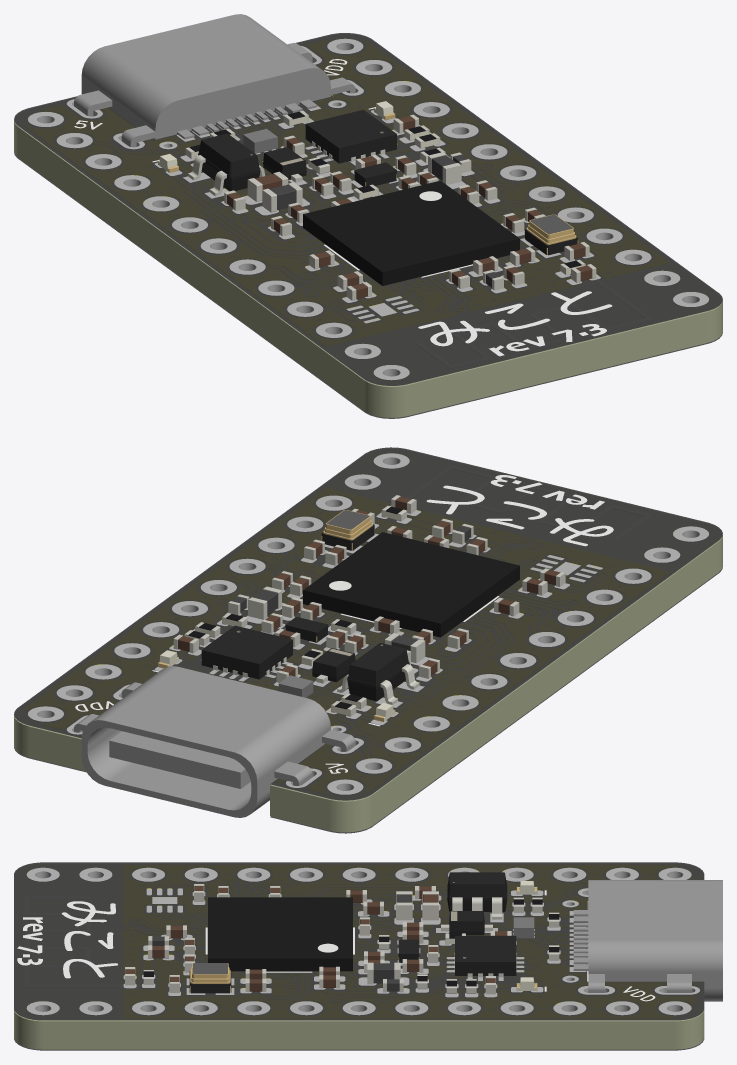
The model's file is board.glb.
3 renders of one model, top to bottom at view 1: azimuth 30°, elevation 25°; view 2: azimuth 150°, elevation 25°; view 3: azimuth 270°, elevation 25°, orthographic. The views are drawn at different scales.
Parts seen in each view (by area): view 1: board_soldermask (×2), board_PCB, USB C v1, board_pad, aQFN73 v2, WQFN_16_1EP_3x3mm_P05mm_EP16x16mm, SOT-23-5, board_silkscreen, L_0603_1608Metric (×2), Crystal_SMD_2016-4Pin_2.0x1.6mm, D_SOD_323F, MicroCrystal_CM9V_T1A (+2 smaller); view 2: board_soldermask (×2), USB C v1, board_PCB, board_pad, aQFN73 v2, WQFN_16_1EP_3x3mm_P05mm_EP16x16mm, SOT-23-5, board_silkscreen, L_0603_1608Metric (×2), Crystal_SMD_2016-4Pin_2.0x1.6mm, D_SOD_323F, MicroCrystal_CM9V_T1A; view 3: board_soldermask (×2), board_PCB, USB C v1, board_pad, aQFN73 v2, WQFN_16_1EP_3x3mm_P05mm_EP16x16mm, SOT-23-5, board_silkscreen, L_0603_1608Metric (×2), D_SOD_323F, Crystal_SMD_2016-4Pin_2.0x1.6mm, C_0603_1608Metric (+3 smaller).
Boxes of the visible parts, x1,y1,x2,y2 form: board_soldermask (×2): (14, 33, 722, 418); board_PCB: (14, 38, 722, 417); USB C v1: (74, 14, 355, 147); board_pad: (28, 39, 708, 380); aQFN73 v2: (303, 180, 519, 285); WQFN_16_1EP_3x3mm_P05mm_EP16x16mm: (305, 109, 396, 163); SOT-23-5: (188, 133, 265, 196); board_silkscreen: (74, 59, 612, 356); L_0603_1608Metric (×2): (262, 152, 461, 212); Crystal_SMD_2016-4Pin_2.0x1.6mm: (524, 214, 578, 254); D_SOD_323F: (263, 147, 306, 182); MicroCrystal_CM9V_T1A: (354, 162, 396, 186); board_soldermask (×2): (14, 447, 722, 833); USB C v1: (74, 666, 355, 817); board_PCB: (14, 453, 722, 832); board_pad: (28, 453, 708, 794); aQFN73 v2: (303, 532, 519, 637); WQFN_16_1EP_3x3mm_P05mm_EP16x16mm: (201, 625, 292, 679); SOT-23-5: (337, 643, 419, 704); board_silkscreen: (75, 475, 613, 773); L_0603_1608Metric (×2): (248, 586, 425, 663); Crystal_SMD_2016-4Pin_2.0x1.6mm: (321, 510, 374, 550); D_SOD_323F: (312, 648, 355, 683); MicroCrystal_CM9V_T1A: (285, 617, 328, 642); board_soldermask (×2): (14, 862, 704, 1050); board_PCB: (14, 867, 704, 1049); USB C v1: (573, 880, 722, 1001); board_pad: (26, 868, 699, 1015); aQFN73 v2: (208, 897, 352, 971); WQFN_16_1EP_3x3mm_P05mm_EP16x16mm: (454, 936, 516, 977); SOT-23-5: (447, 872, 507, 919); board_silkscreen: (17, 890, 655, 1001); L_0603_1608Metric (×2): (367, 891, 412, 984); D_SOD_323F: (441, 911, 492, 935); Crystal_SMD_2016-4Pin_2.0x1.6mm: (189, 963, 230, 992); C_0603_1608Metric: (422, 891, 438, 920).
Size of the model in its own units: 0.018 by 0.00324 by 0.0342.
